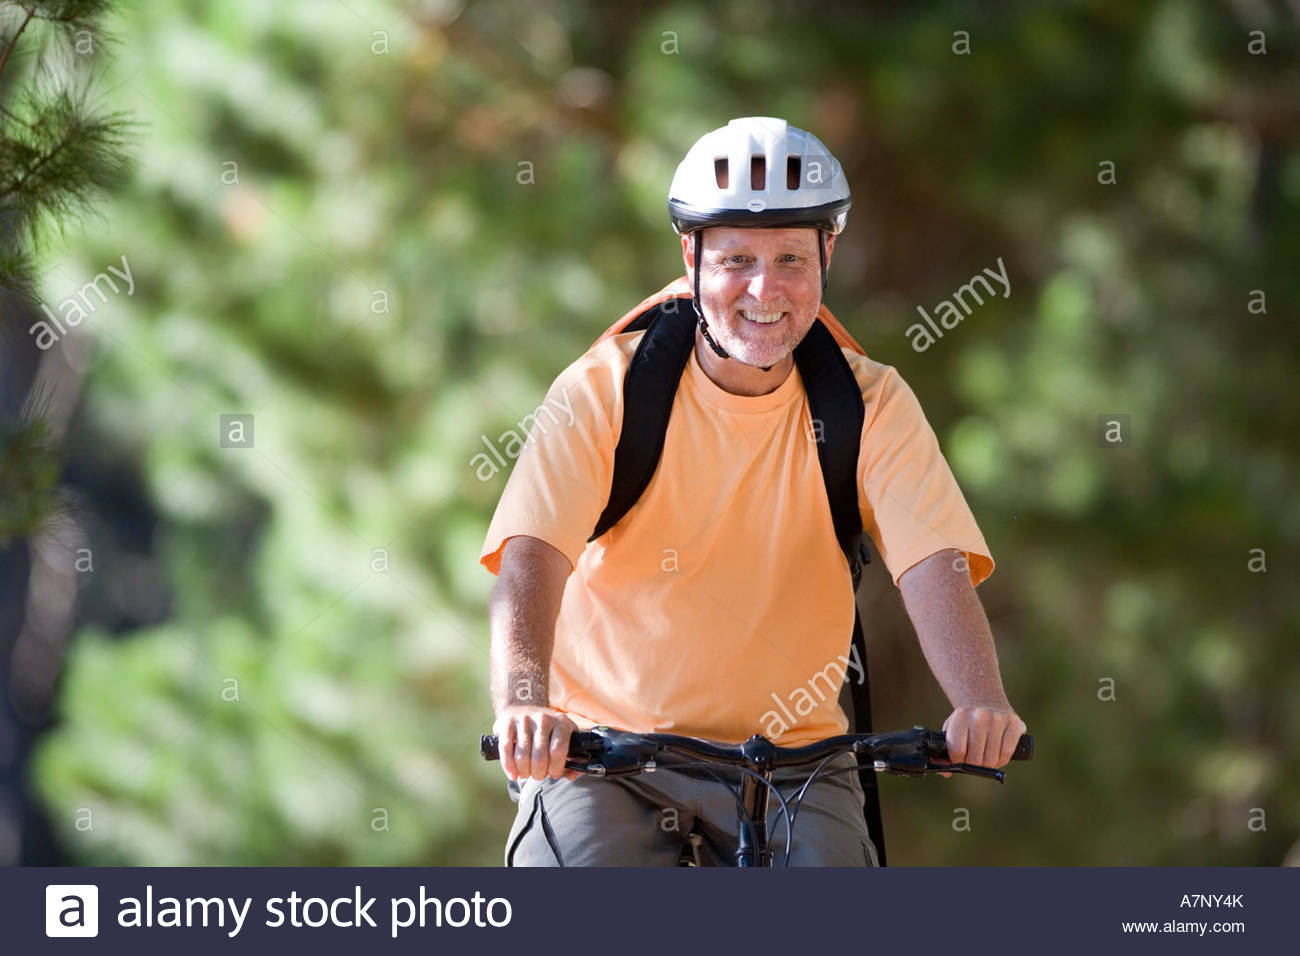with_helmet: (661, 110, 855, 246)
